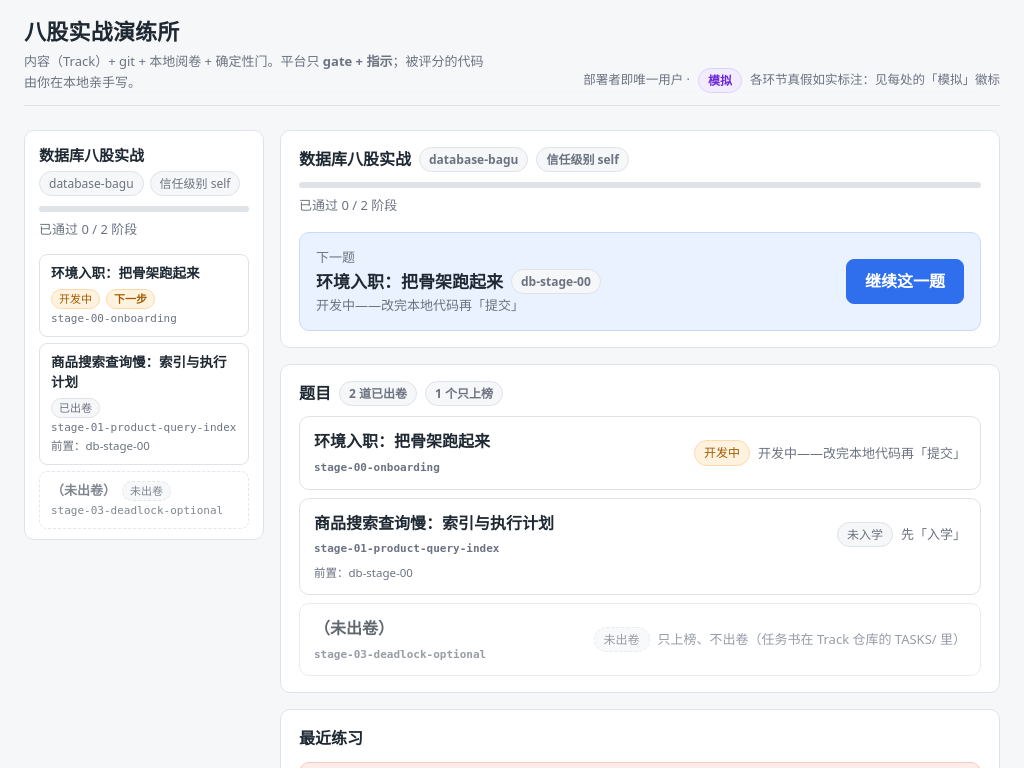
Test: App · 提交后的轮询 › 一直轮询到报告就绪，并把报告渲染出来
Click the button with test id "stage-stage-00-onboarding" at (144, 296), box [39,254,249,337]
(page scrolled)
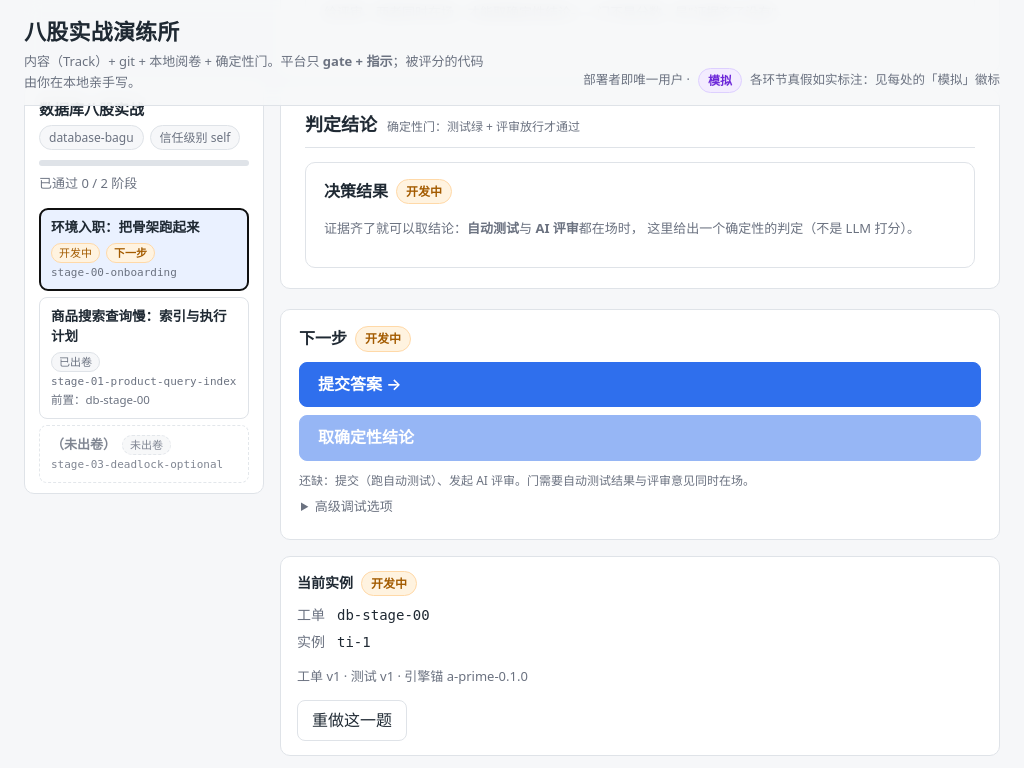
Click the button "提交答案 →" at (360, 384), box [299,362,981,408]
(page scrolled)
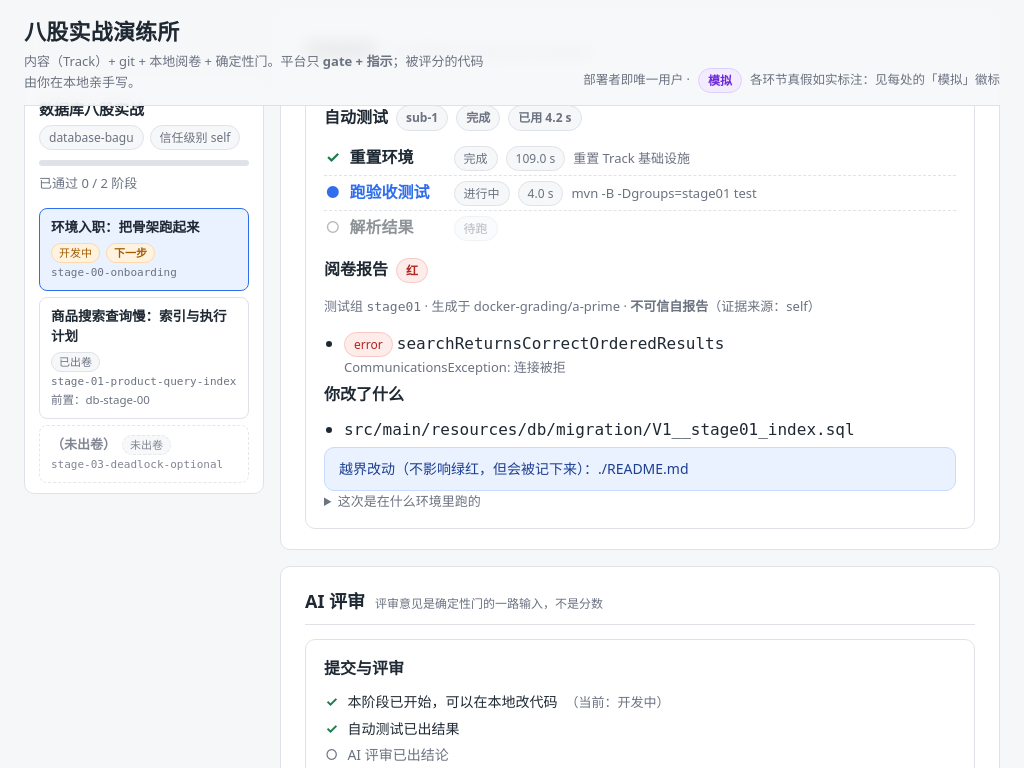
expect the list with test id "grading-progress" shows "进行中": met, box [464,185,500,202]
expect the element with test id "grading-report" shows "searchReturnsCorrectOrderedResults": met, box [397,334,724,353]
expect the element with test id "grading-report" shows "红": met, box [406,262,418,278]
